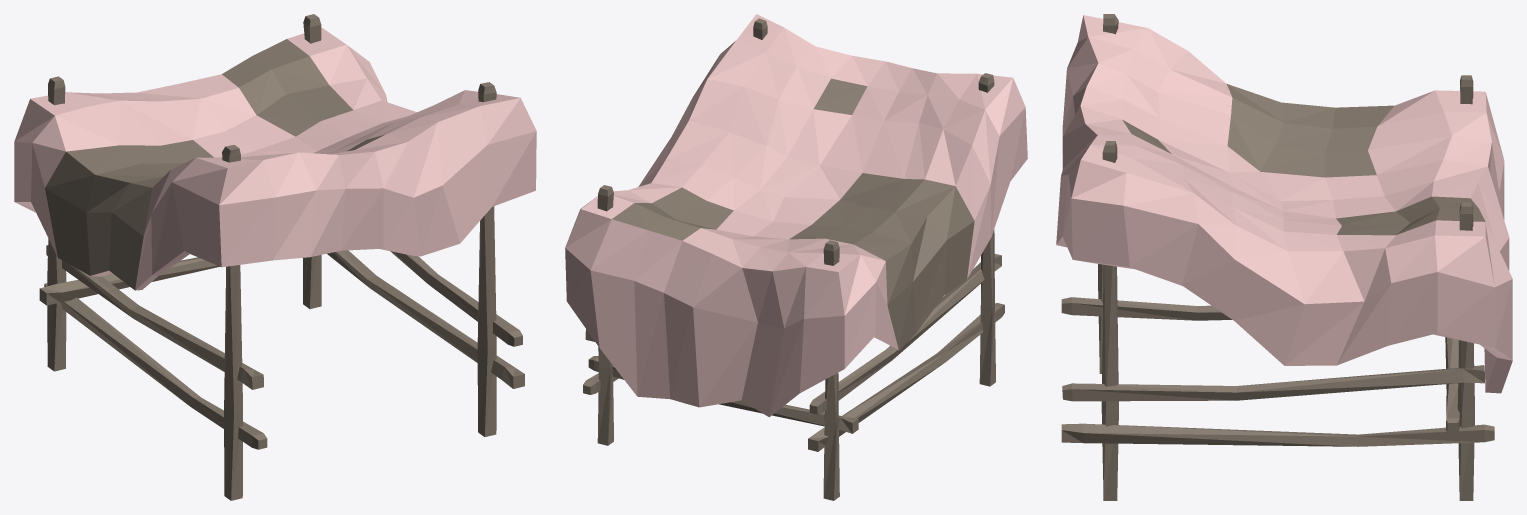
The model's file is SM_Bld_Tent_01.glb.
The picture shows the model from 3 angles, left to right: view 1: azimuth 30°, elevation 25°; view 2: azimuth 150°, elevation 25°; view 3: azimuth 270°, elevation 25°; orthographic projection. The views are drawn at different scales.
Visible parts, largest first — view 1: SM_Bld_Tent_01_00; view 2: SM_Bld_Tent_01_00; view 3: SM_Bld_Tent_01_00.
Boxes of the visible parts, bbox=[...] form: SM_Bld_Tent_01_00: bbox=[14, 14, 536, 500]; SM_Bld_Tent_01_00: bbox=[565, 14, 1027, 500]; SM_Bld_Tent_01_00: bbox=[1056, 14, 1512, 500].
Size of the model in its own units: 2.79 by 2.69 by 3.13.
1 material, 1 textured.
